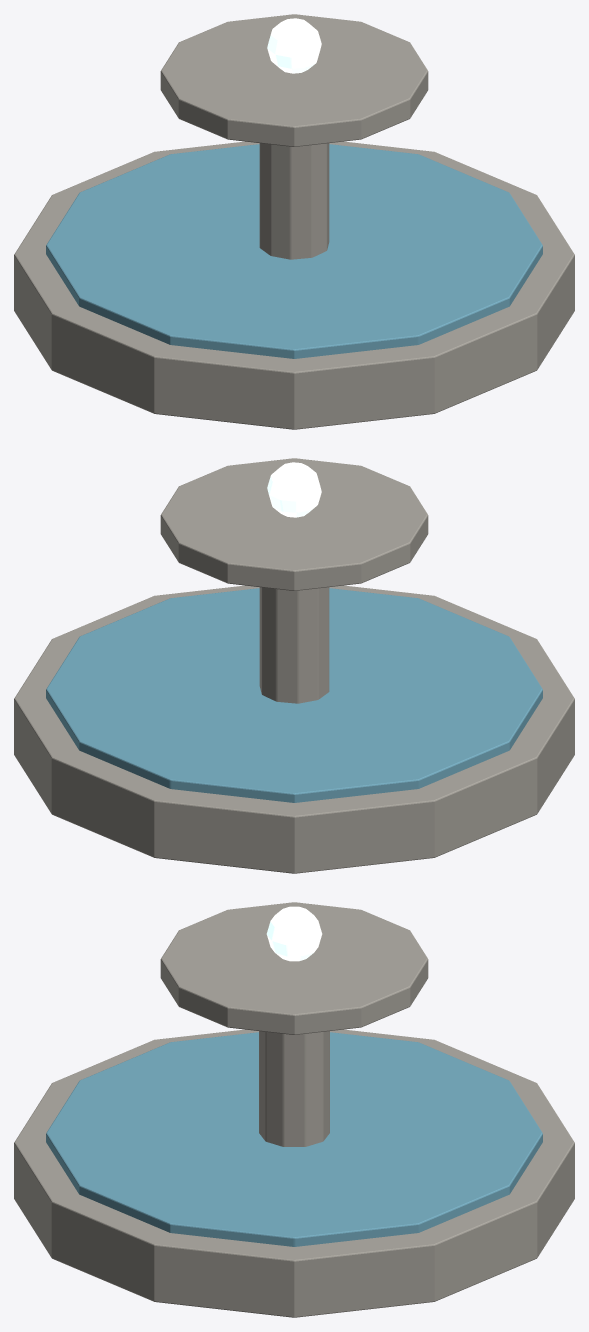
Rendered from SM_Kurpark_Fountain.fbx.
The picture shows the model from 3 angles, top to bottom: view 1: azimuth 30°, elevation 25°; view 2: azimuth 150°, elevation 25°; view 3: azimuth 270°, elevation 25°; orthographic projection.
Visible parts, largest first — view 1: SM_Kurpark_Fountain; view 2: SM_Kurpark_Fountain; view 3: SM_Kurpark_Fountain.
Part boxes in pixels (<box>): SM_Kurpark_Fountain: <box>14,14,574,429</box>; SM_Kurpark_Fountain: <box>14,458,574,873</box>; SM_Kurpark_Fountain: <box>14,902,574,1317</box>.
Bounding box in the file's own units: 4.4 × 2.52 × 4.4.
